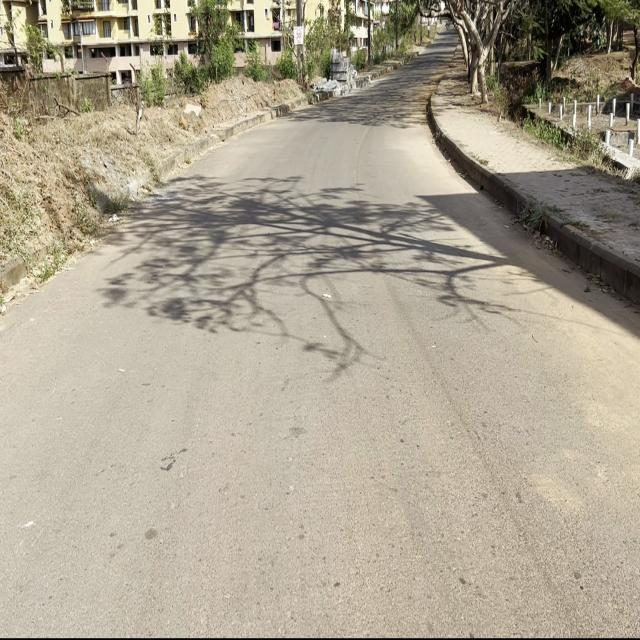Road: (1, 58, 640, 640)
